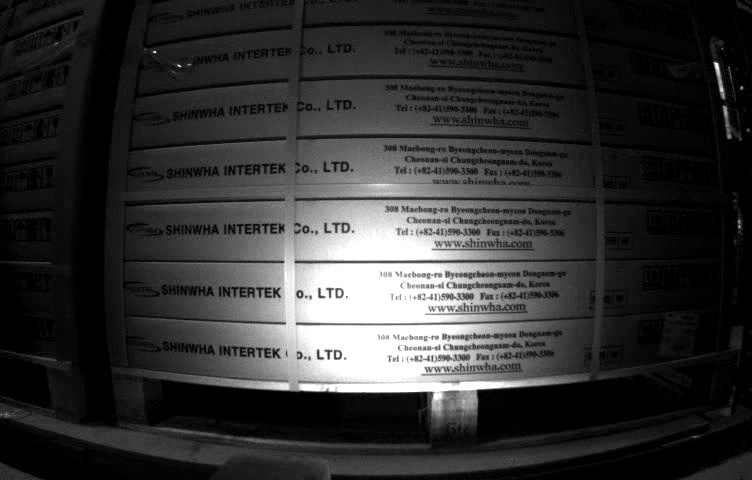True Barcode: (659, 311, 701, 354)
